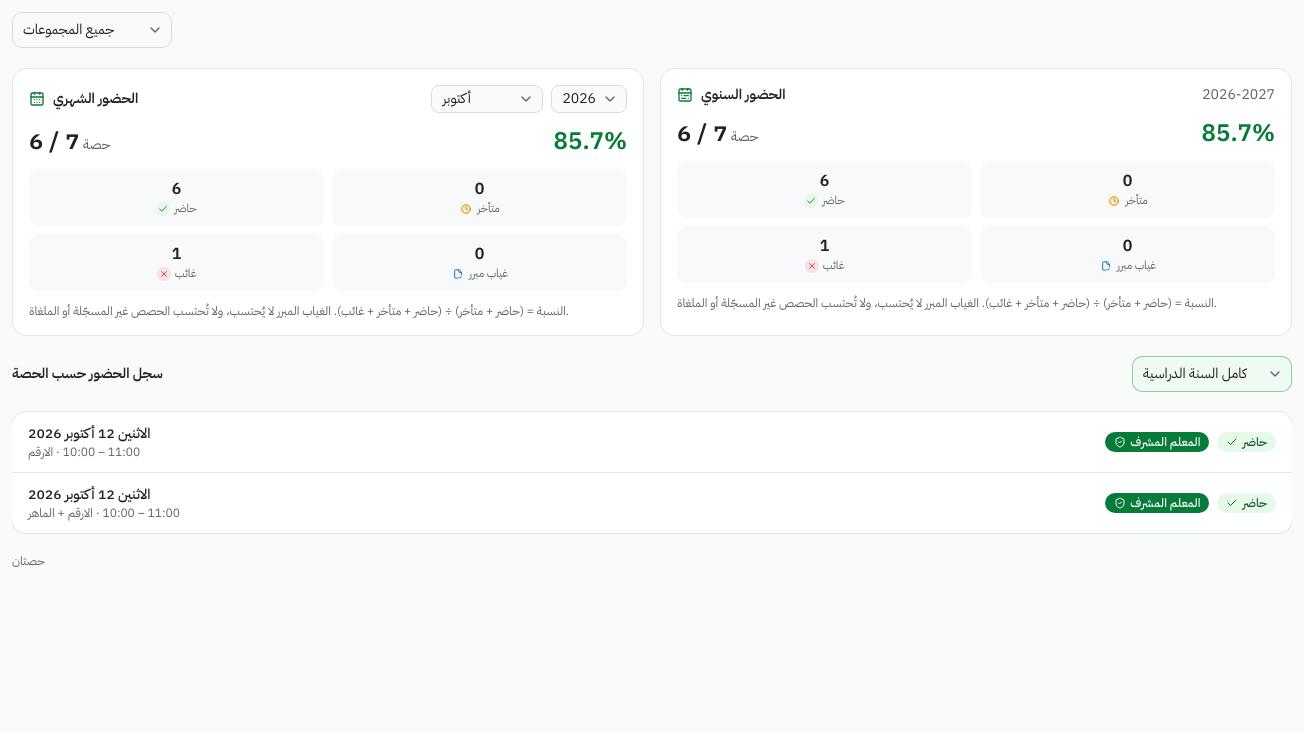
Test: teacher profile — attendance by group › a group without lessons: empty totals and a group-specific empty state
Click the dropdown named "المجموعة": (92, 30) left=12, top=12, right=172, bottom=48
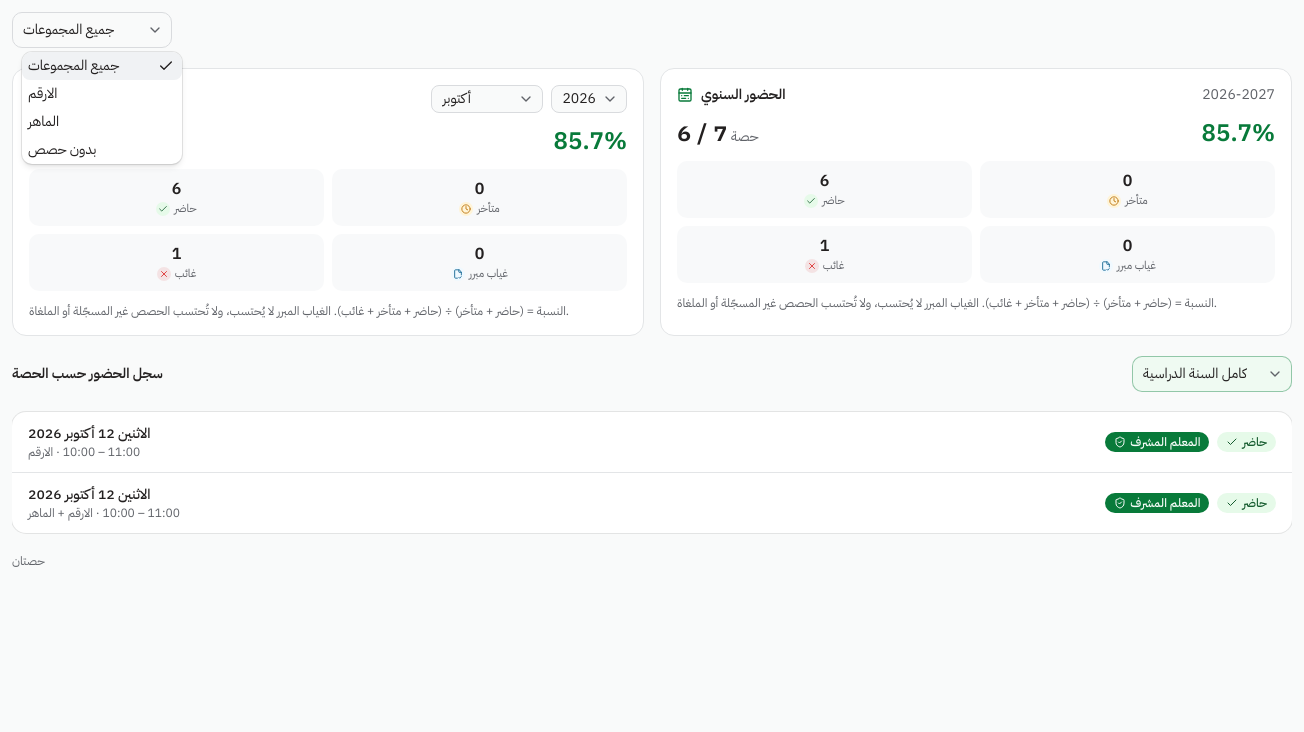
Click the option "بدون حصص": (62, 150) left=28, top=139, right=96, bottom=160
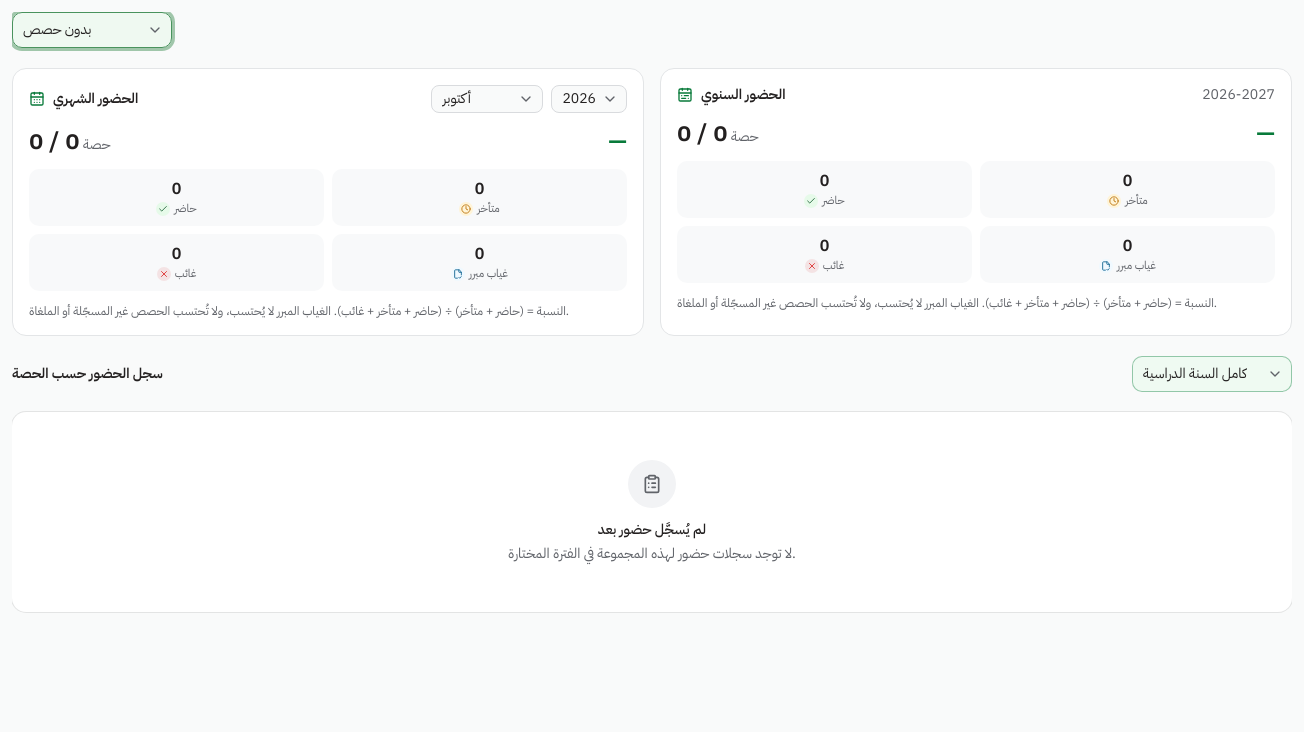
Expected: the text "لا توجد سجلات حضور لهذه المجموعة في الفترة المختارة." is shown, left=508, top=544, right=796, bottom=564
